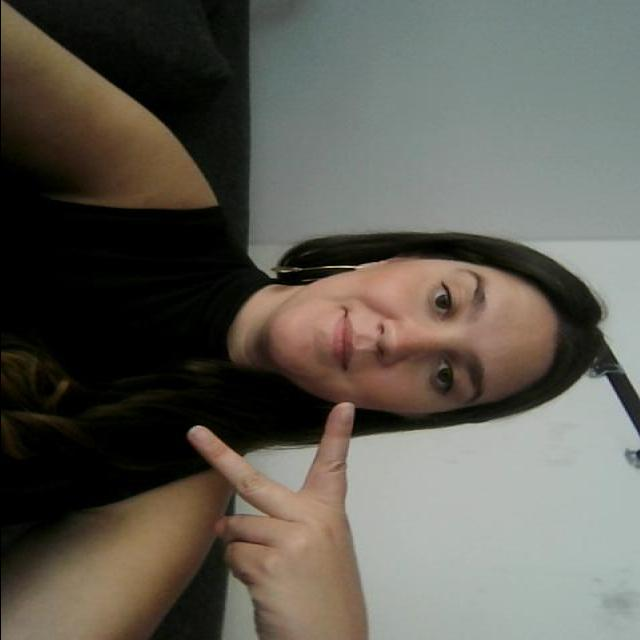Scissors: (181, 394, 367, 638)
